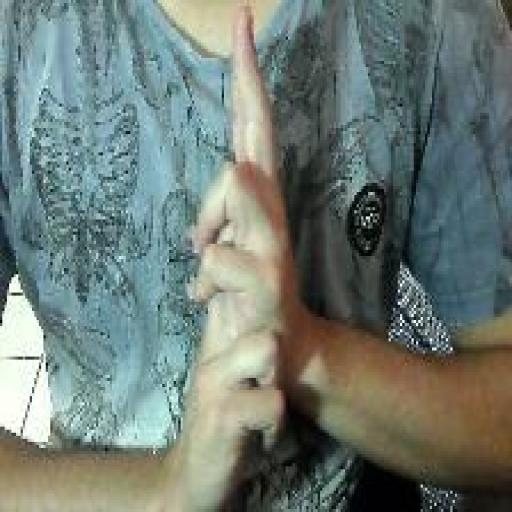Hitsuji -ram-: (184, 3, 296, 509)
